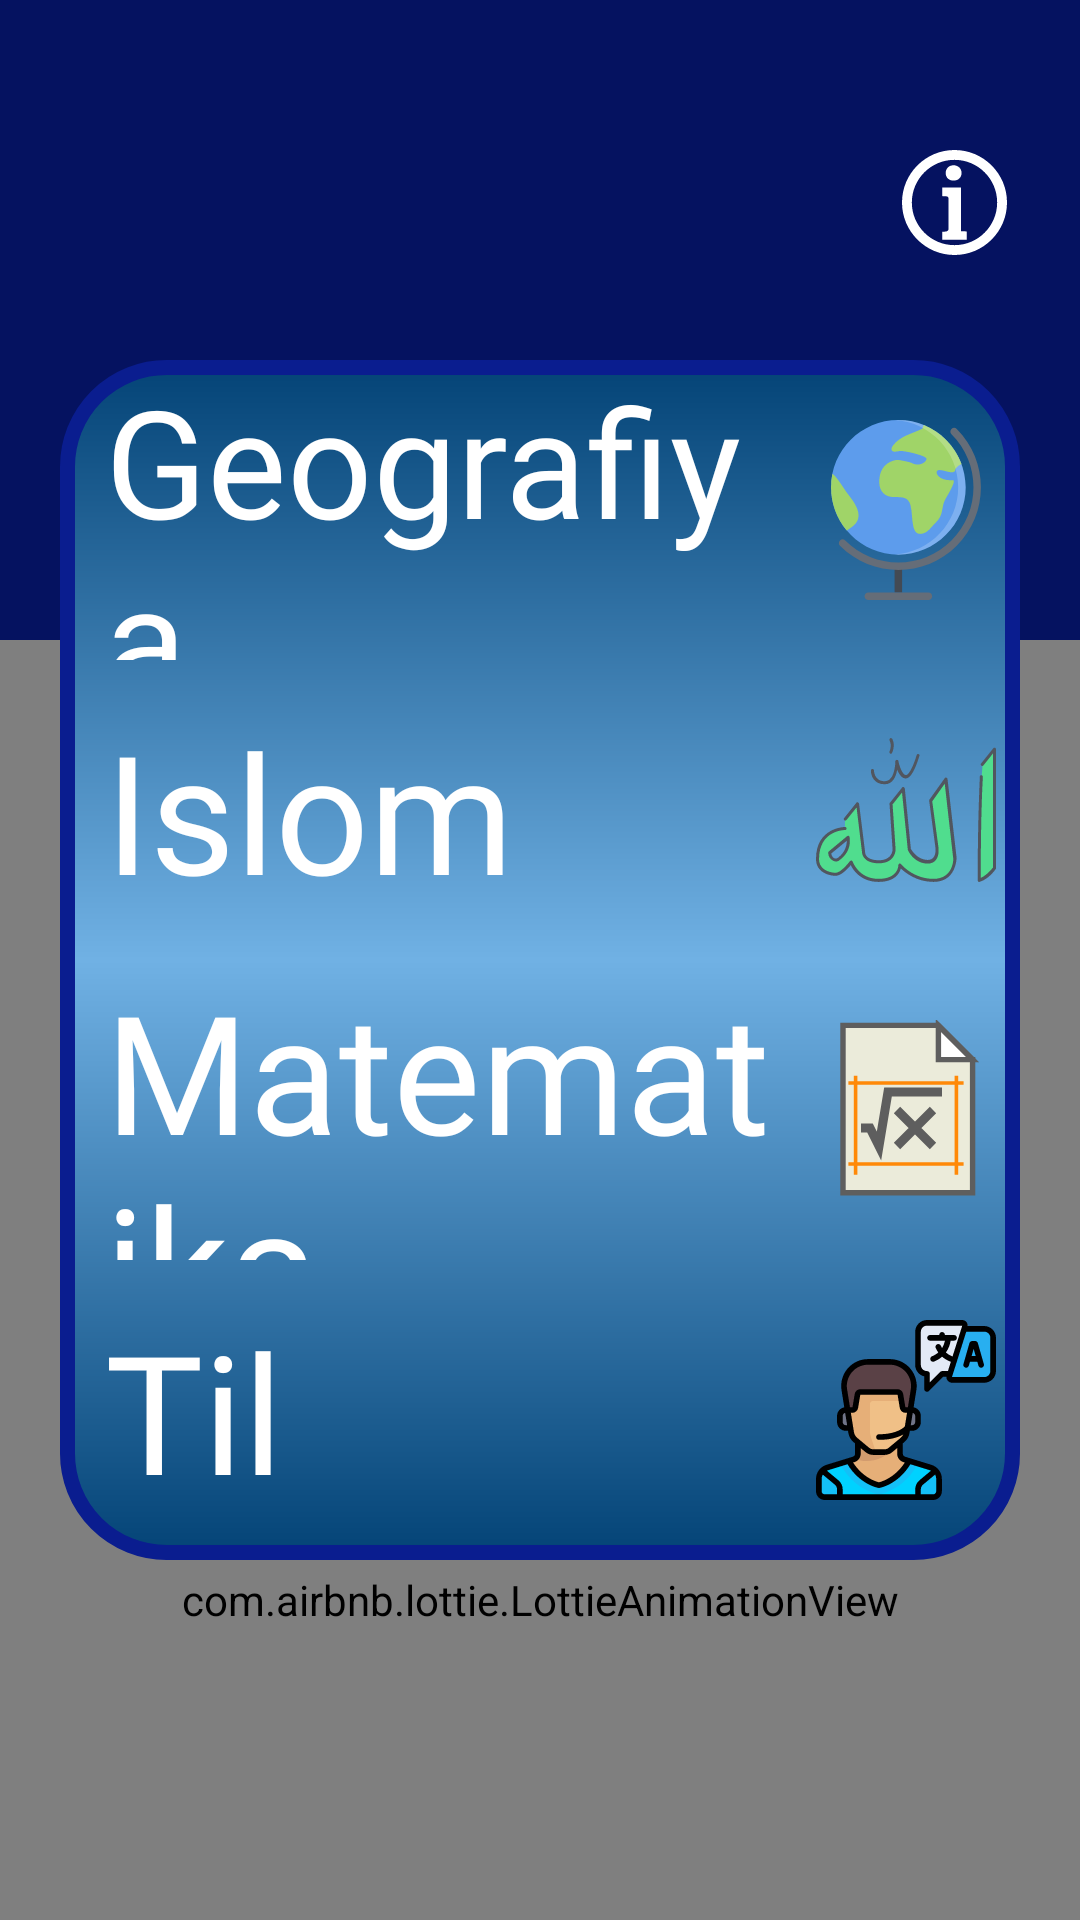

Point at icon controls on the screen. Image size 1080 x 1920, points as [x,y].
earth geo: [905,510]
info for adok: [954,202]
translator: [905,1410]
